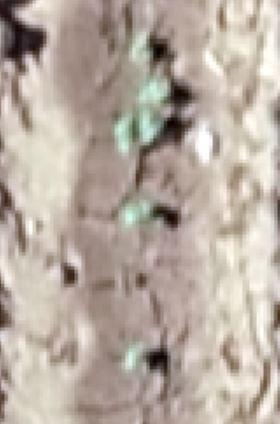cotton: (112, 113, 159, 141), (133, 35, 152, 62), (143, 78, 168, 98), (125, 205, 153, 222), (126, 344, 142, 369)
